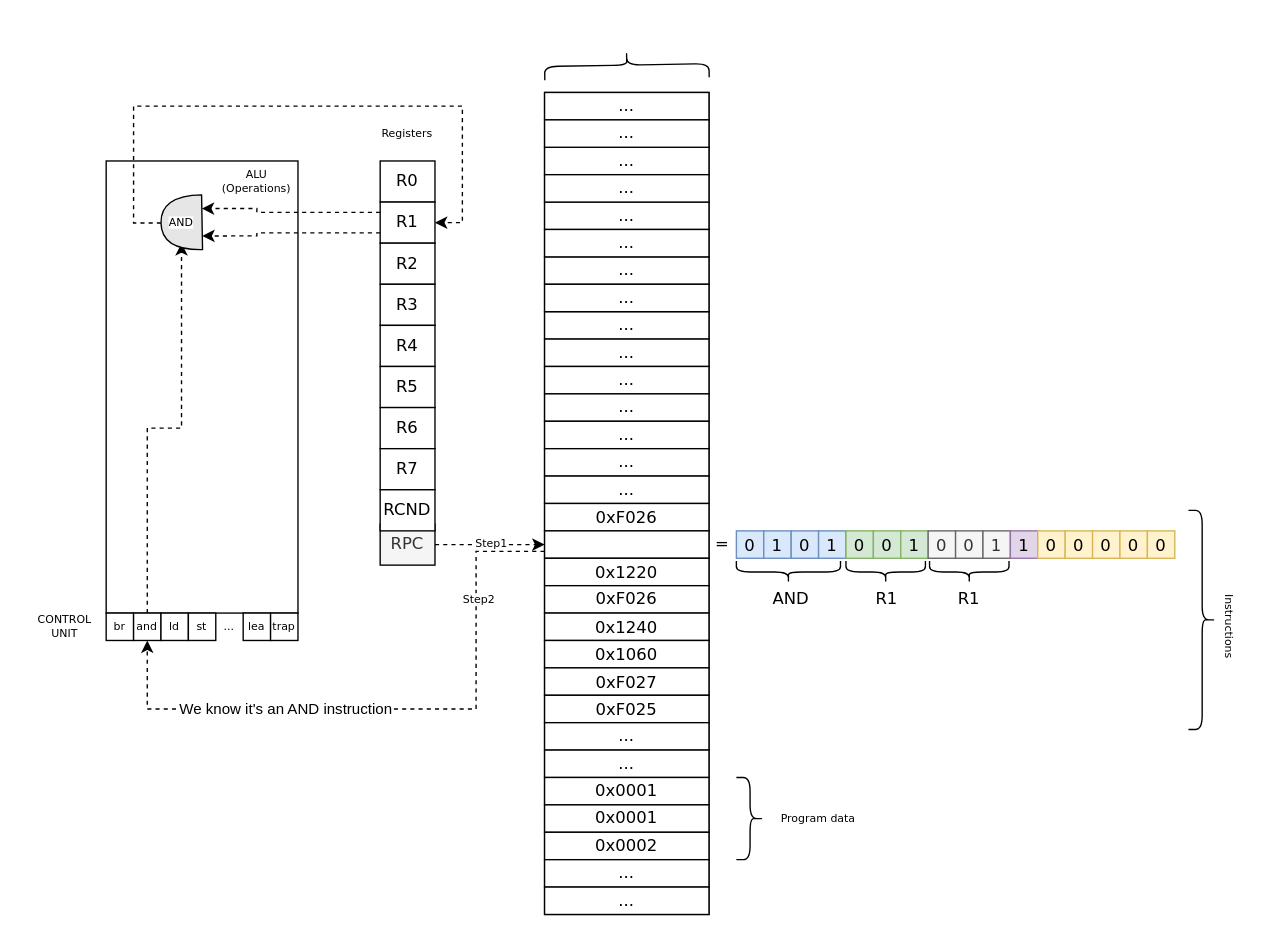
The diagram is 1273 pixels wide and 949 high, and some of its shapes have lost their labels. Each missing label, with the centre of its shape:
"0x5260" goes at (x=626, y=544).
"Main Memory" goes at (x=626, y=64).
